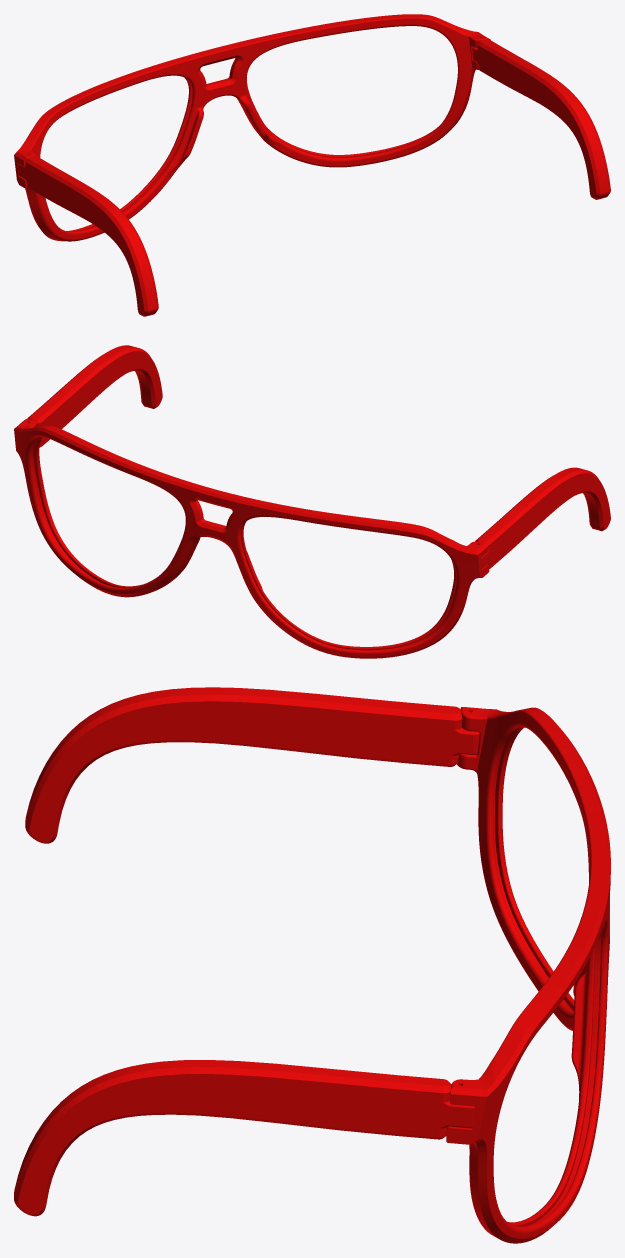
File: done25.fbx
3 renders of one model, top to bottom at view 1: azimuth 30°, elevation 25°; view 2: azimuth 150°, elevation 25°; view 3: azimuth 270°, elevation 25°, orthographic. The views are drawn at different scales.
Parts seen in each view (by area): view 1: Assembly~4, Assembly~7, Assembly~1_3; view 2: Assembly~4, Assembly~7, Assembly~1_3; view 3: Assembly~4, Assembly~1_3, Assembly~7.
Part boxes in pixels (bbox=[...]): Assembly~4: bbox=[14, 14, 490, 241]; Assembly~7: bbox=[17, 156, 158, 316]; Assembly~1_3: bbox=[472, 39, 610, 199]; Assembly~4: bbox=[14, 419, 489, 658]; Assembly~7: bbox=[475, 467, 610, 568]; Assembly~1_3: bbox=[27, 345, 162, 447]; Assembly~4: bbox=[446, 707, 610, 1243]; Assembly~1_3: bbox=[14, 1060, 474, 1216]; Assembly~7: bbox=[25, 687, 479, 843].
Bounding box in the file's own units: 16.57 × 5.01 × 10.33.
